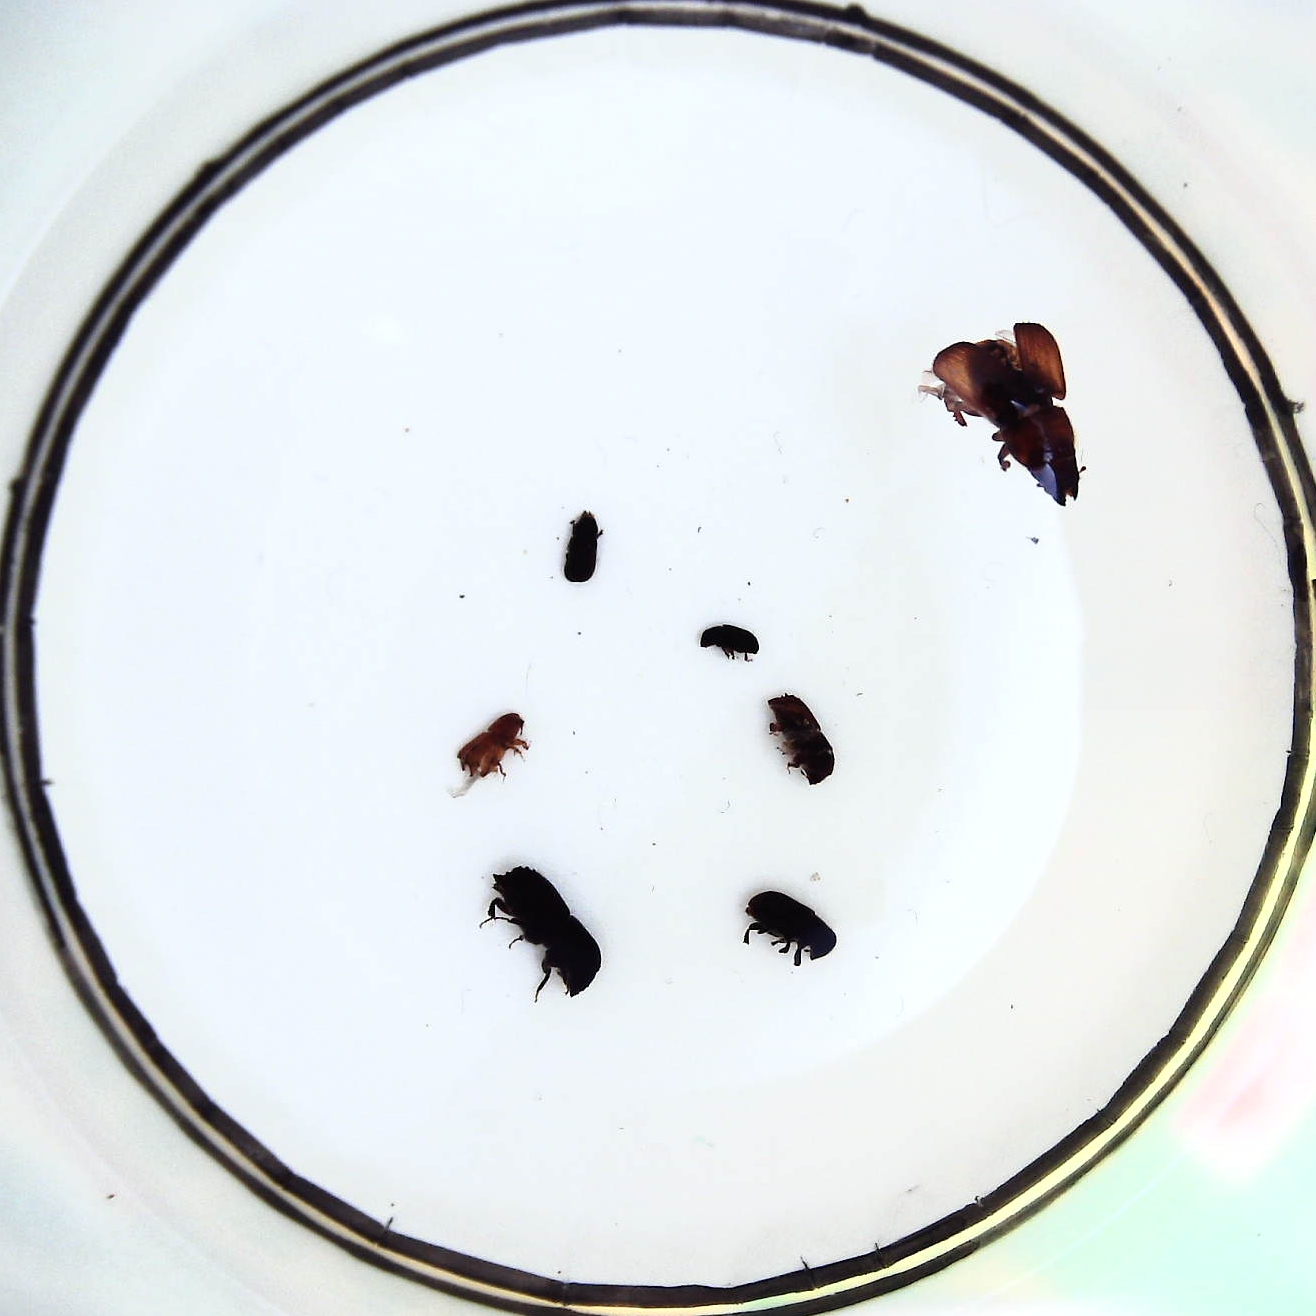Boerner: (487, 866, 603, 997)
Leconte: (929, 321, 1083, 510)
Linnaeus: (766, 689, 838, 785)
acuminatus: (459, 713, 525, 781)
armandi: (741, 892, 834, 967)
coleoptera: (565, 512, 605, 584), (697, 622, 756, 658)
